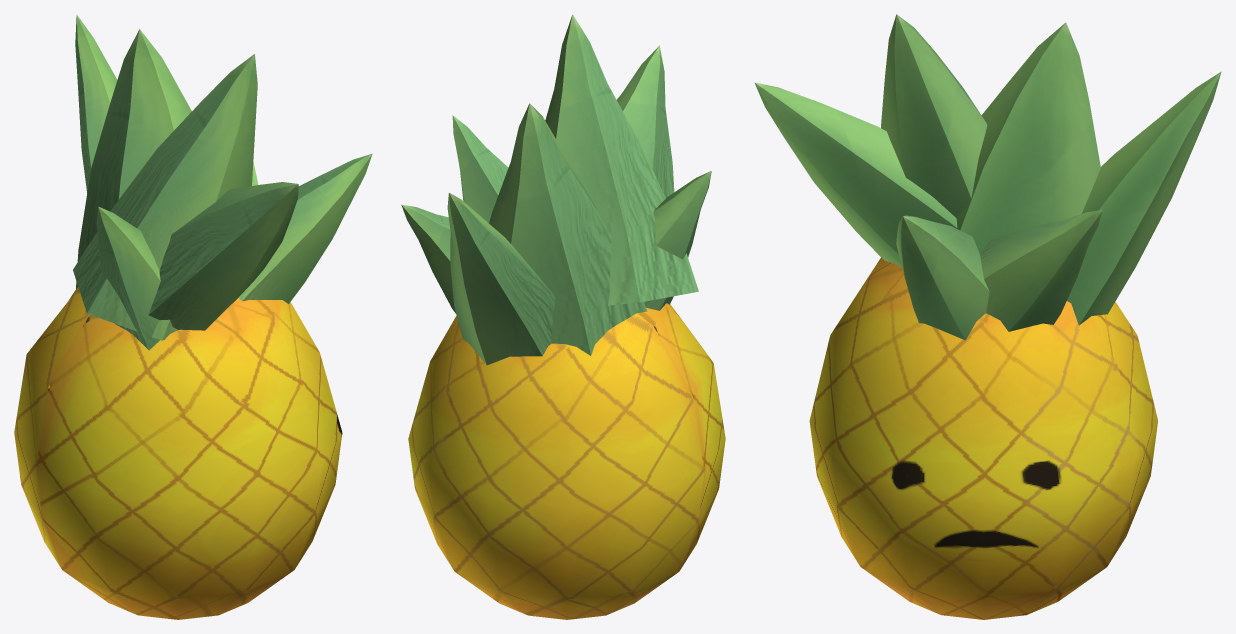
The model's file is pineapple_attack.fbx.
3 views of the same model, side by side, from view 1: azimuth 30°, elevation 25°; view 2: azimuth 150°, elevation 25°; view 3: azimuth 270°, elevation 25° (orthographic). The views are drawn at different scales.
Parts seen in each view (by area): view 1: pineapple2; view 2: pineapple2; view 3: pineapple2.
Boxes of the visible parts, x1=… form: pineapple2: x1=14, y1=14, x2=372, y2=619; pineapple2: x1=401, y1=14, x2=725, y2=619; pineapple2: x1=754, y1=14, x2=1221, y2=619.
Size of the model in its own units: 2.28 by 4.03 by 2.91.
Materials: 1 (1 with a texture image).
